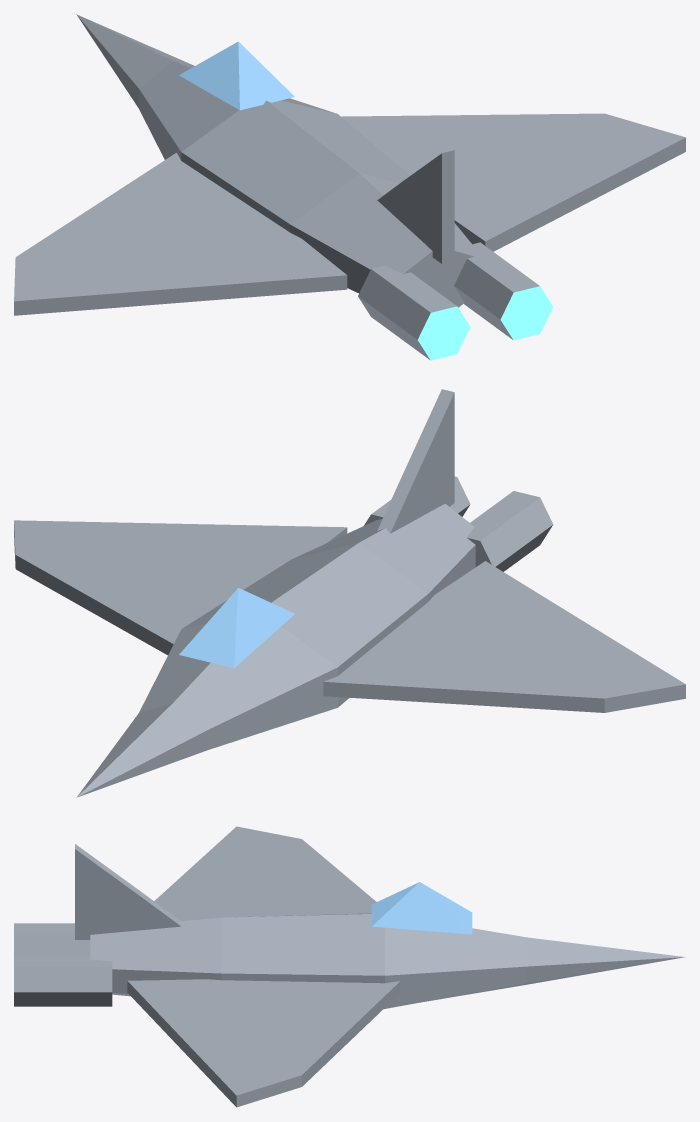
The model's file is ship_lowpoly.glb.
3 renders of one model, top to bottom at view 1: azimuth 30°, elevation 25°; view 2: azimuth 150°, elevation 25°; view 3: azimuth 270°, elevation 25°, orthographic. The views are drawn at different scales.
Visible parts, largest first — view 1: PlayerShip; view 2: PlayerShip; view 3: PlayerShip.
Boxes of the visible parts, x1,y1,x2,y2 form: PlayerShip: [14, 14, 685, 360]; PlayerShip: [14, 389, 685, 797]; PlayerShip: [14, 826, 685, 1107].
Bounding box in the file's own units: 2.92 × 0.82 × 3.08.
